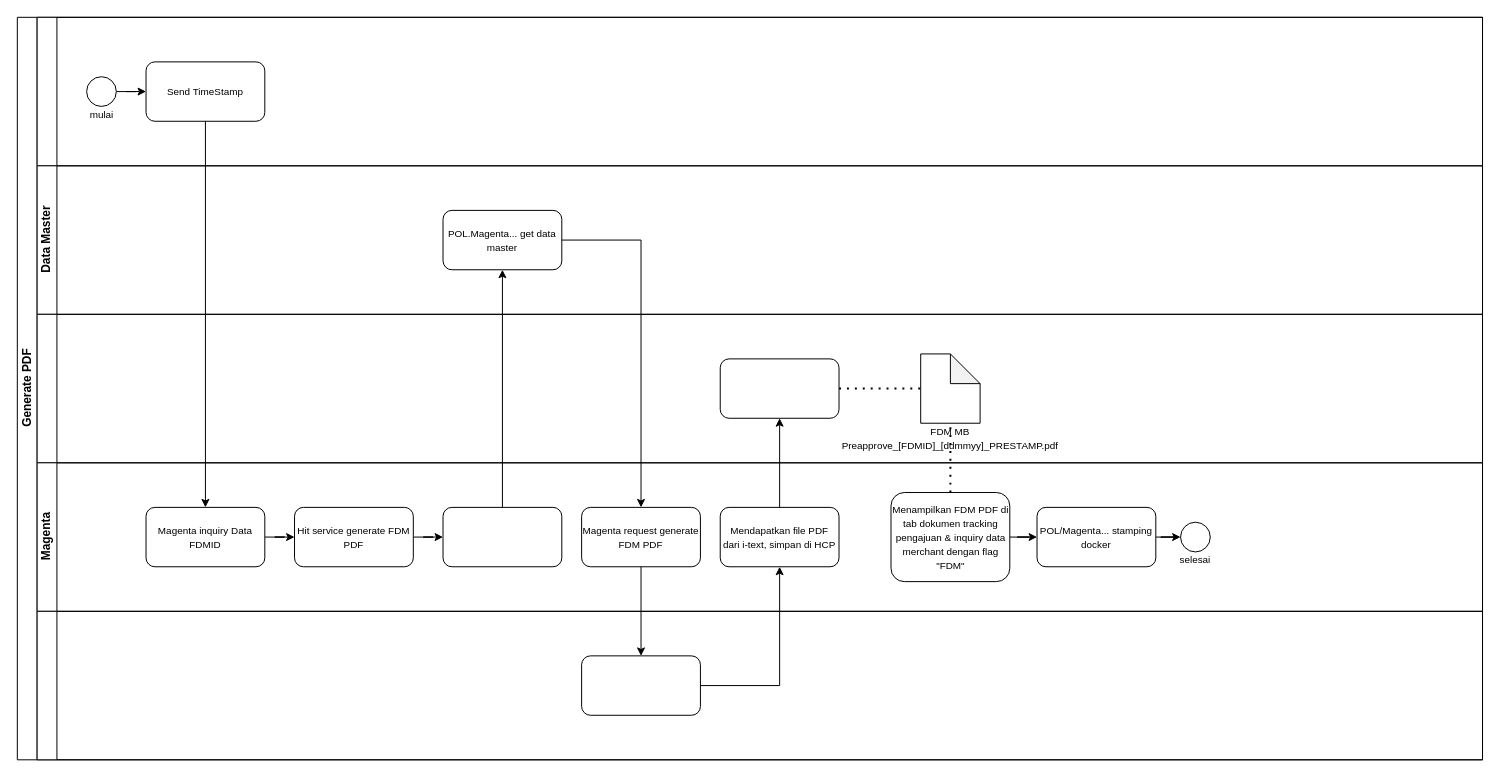
Image size: 1500x777. Some labels were removed from this diagram. The shapes that lost their labels are listed below. From the top down, each one's box as (x1, y1, x2, y2) in pixels, then its label:
(36, 16, 1483, 166): Merchant Apps
(36, 313, 1483, 463): HCP Magenta
(719, 358, 839, 418): Mendapatkan file dan menyimpan file prestamp
(442, 506, 562, 567): Magenta get S&K dan RIPLAY terupdate di Data Master
(581, 655, 700, 715): Generate FDM PDF
(36, 610, 1483, 760): I-text
